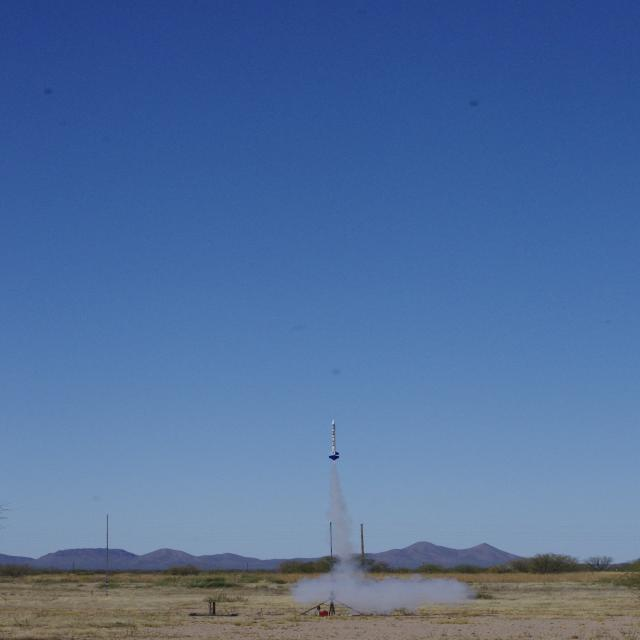Rocket: (329, 419, 340, 460)
